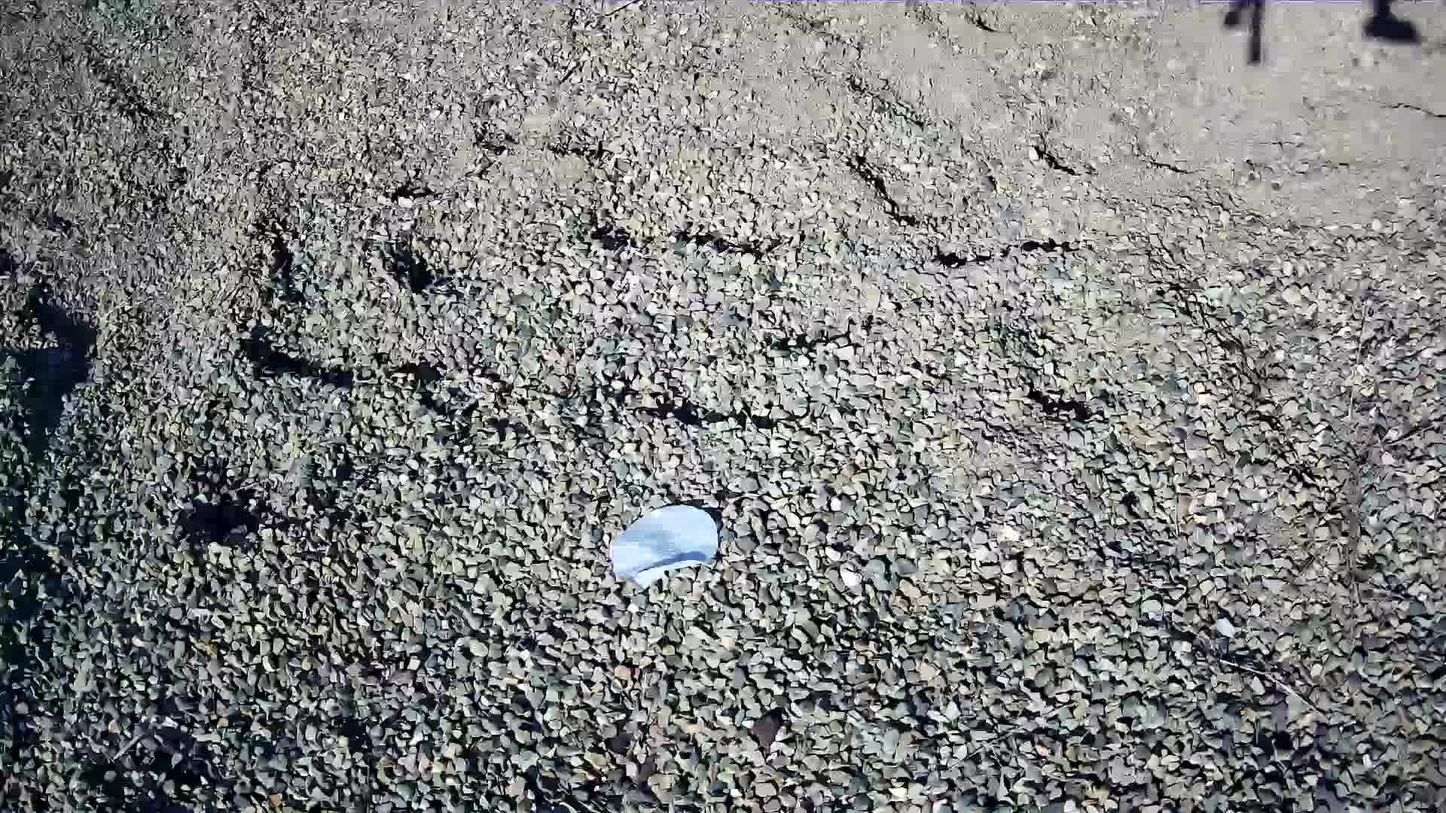Target: (609, 503, 720, 583)
